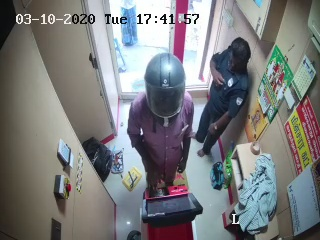helmet: (143, 52, 187, 128)
